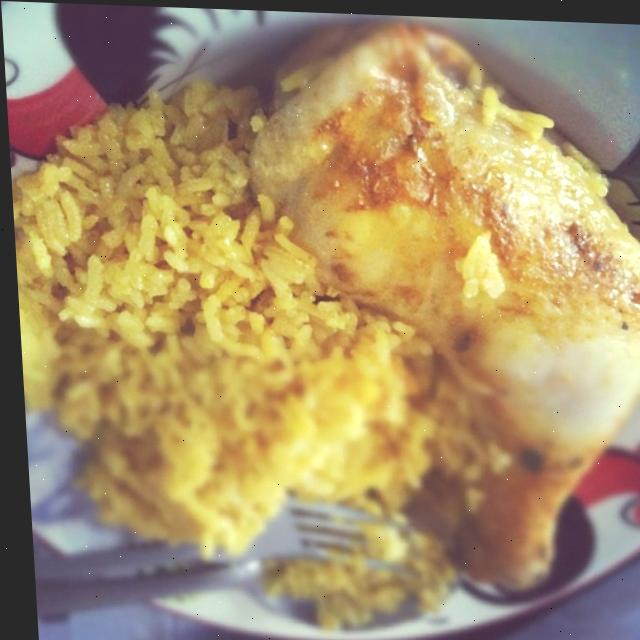米饭主食: (17, 34, 640, 629)
